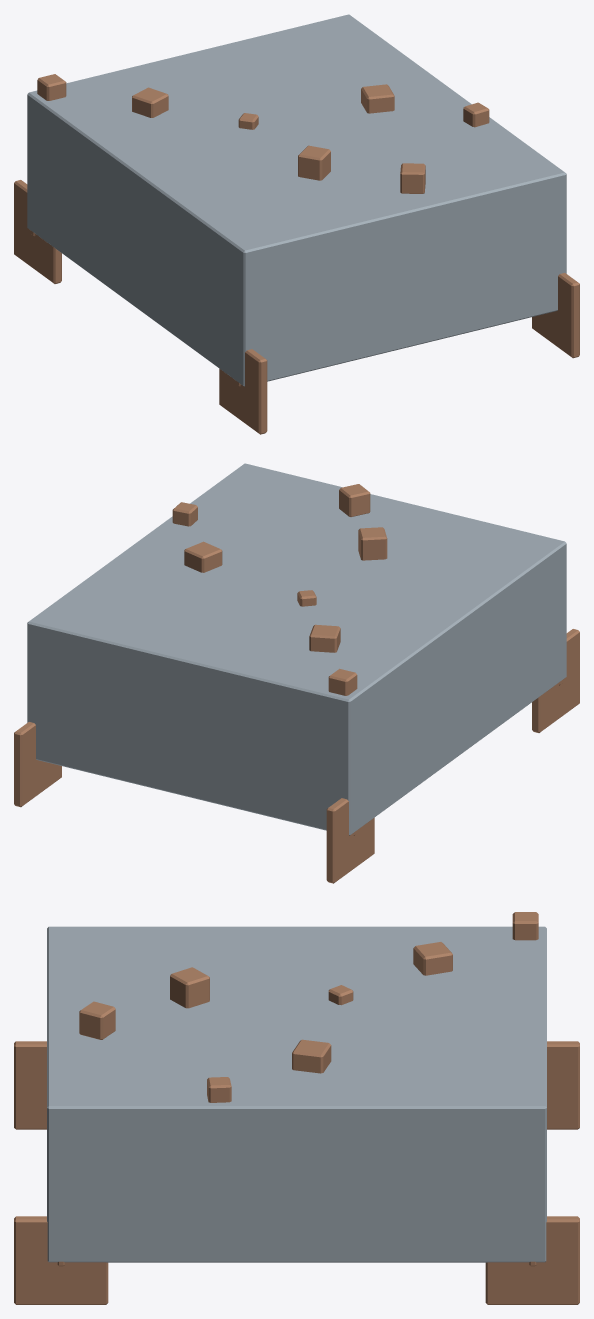
Rendered from mine_cart.glb.
3 renders of one model, top to bottom at view 1: azimuth 30°, elevation 25°; view 2: azimuth 150°, elevation 25°; view 3: azimuth 270°, elevation 25°, orthographic. The views are drawn at different scales.
Visible parts, largest first — view 1: mine_cart; view 2: mine_cart; view 3: mine_cart.
Boxes of the visible parts, box(x1,y1,x2,y2) form: mine_cart: box(14, 14, 579, 434); mine_cart: box(14, 463, 579, 883); mine_cart: box(14, 912, 579, 1304).
Bounding box in the file's own units: 3 × 1.73 × 3.96.
